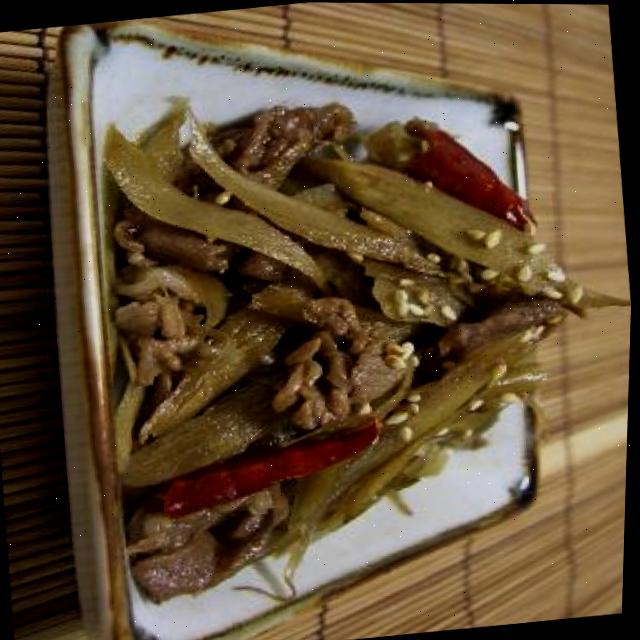蔬菜料理: (63, 77, 638, 574)
